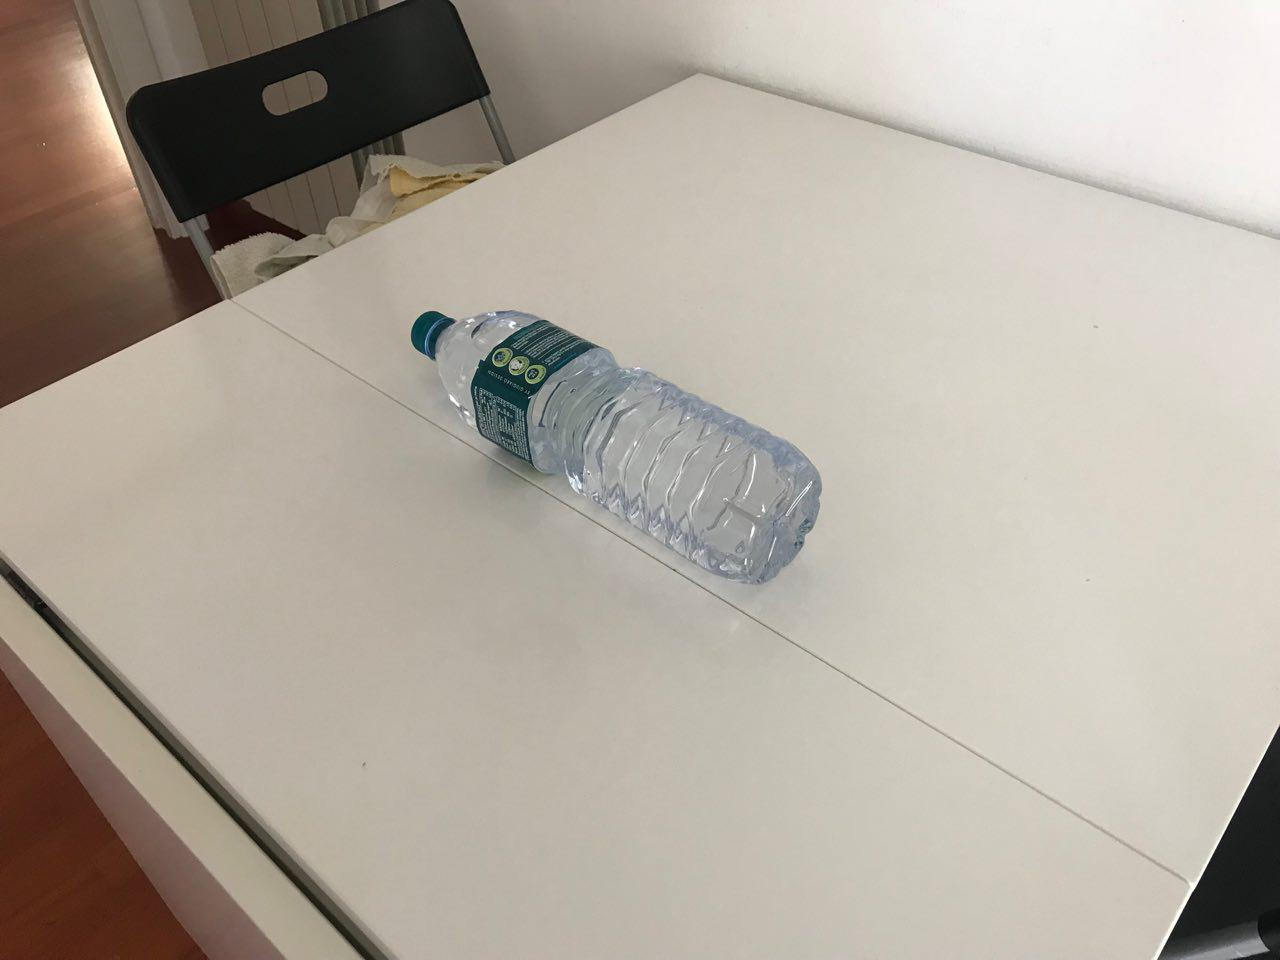san_bernardo: (409, 306, 823, 587)
